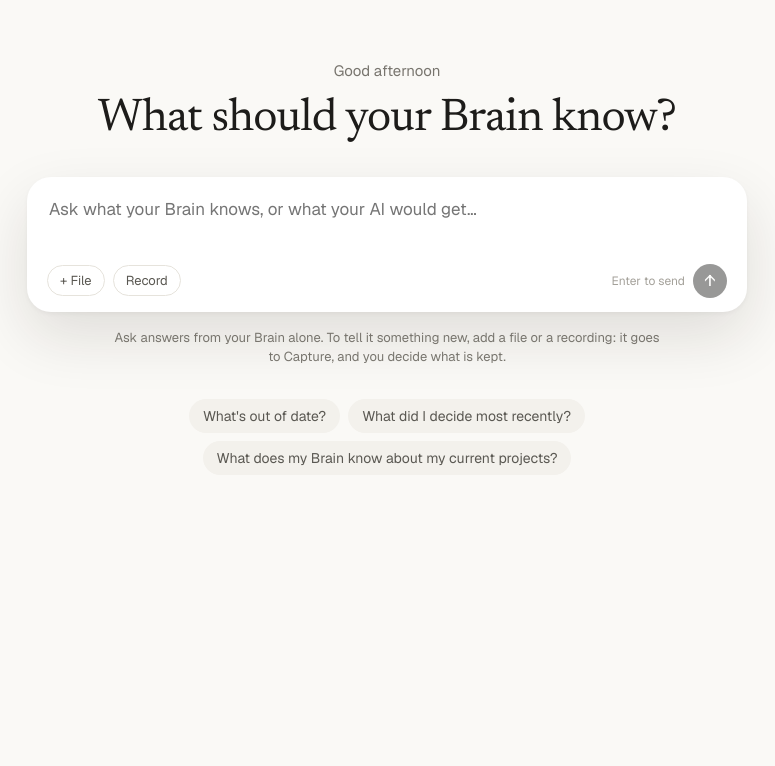
it: Ask › sends the question and shows the answer, its cited notes, its receipt and who answered
The image size is (775, 766).
Check: the heading "What should your Brain know?" is shown, box x1=98 y1=94 x2=676 y2=145
Type "When are invoices due?" into the text box named "Your question" at (387, 222), box x1=47 y1=195 x2=727 y2=250
Then press Enter
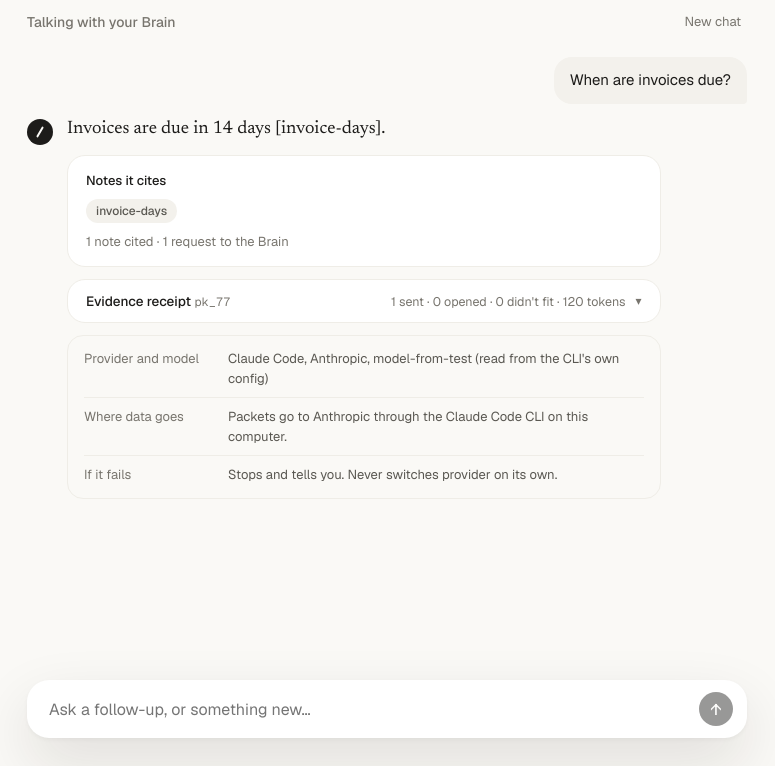
Check: the text "Invoices are due in 14 days [invoice-days]." is shown, box x1=67 y1=120 x2=386 y2=138
Check: the link "invoice-days" is shown, box x1=86 y1=199 x2=177 y2=223
Check: the text "Evidence receipt" is shown, box x1=86 y1=292 x2=194 y2=310
